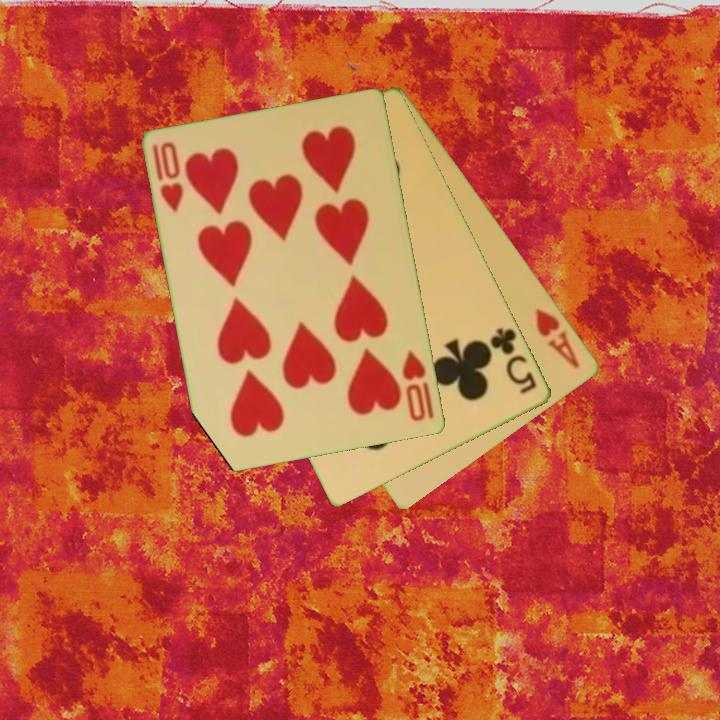10h: (399, 347, 438, 425), (149, 139, 187, 215)
5c: (487, 324, 540, 398)
Ah: (532, 304, 584, 372)
